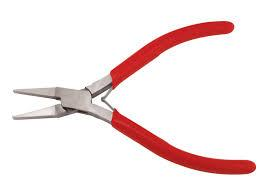pliers: (10, 19, 255, 175)
